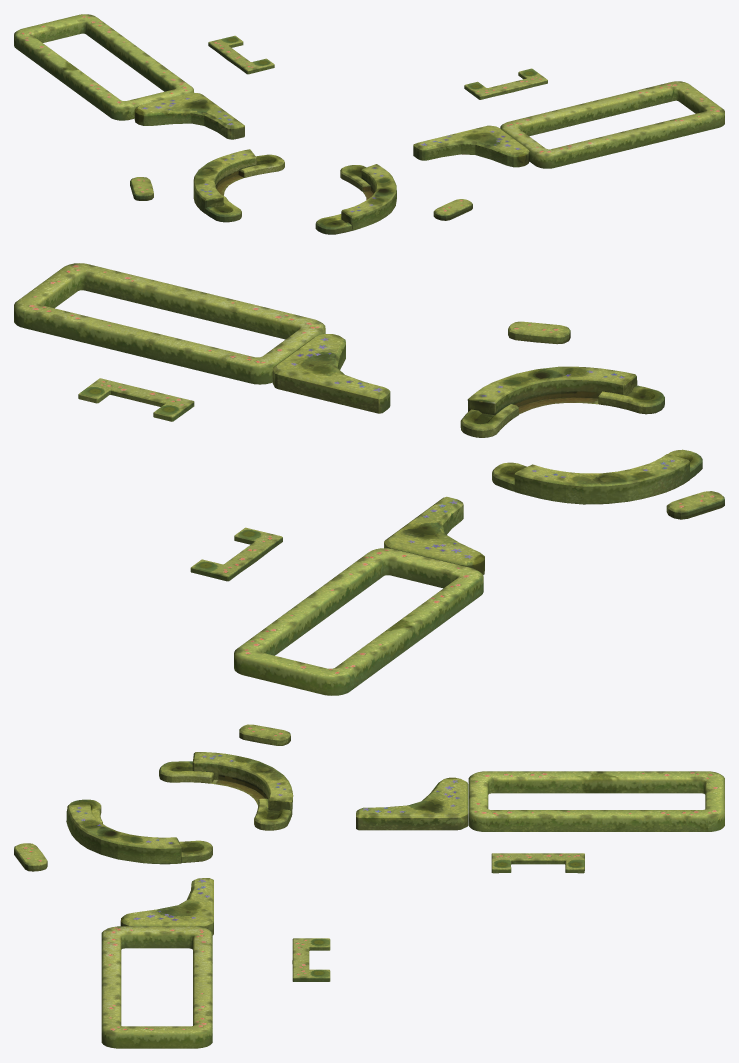
File: pref_sm_garden_bush_vertexcolor_06_lv1.fbx
3 renders of one model, top to bottom at view 1: azimuth 30°, elevation 25°; view 2: azimuth 150°, elevation 25°; view 3: azimuth 270°, elevation 25°, orthographic. The views are drawn at different scales.
Parts seen in each view (by area): view 1: pref_sm_garden_bush_vertexcolor_06_lv1; view 2: pref_sm_garden_bush_vertexcolor_06_lv1; view 3: pref_sm_garden_bush_vertexcolor_06_lv1.
Boxes of the visible parts, left/top/right/bottom form: pref_sm_garden_bush_vertexcolor_06_lv1: left=14, top=14, right=724, bottom=234; pref_sm_garden_bush_vertexcolor_06_lv1: left=14, top=263, right=724, bottom=695; pref_sm_garden_bush_vertexcolor_06_lv1: left=14, top=724, right=724, bottom=1048.
Size of the model in its own units: 54.7 by 1.49 by 53.57.
